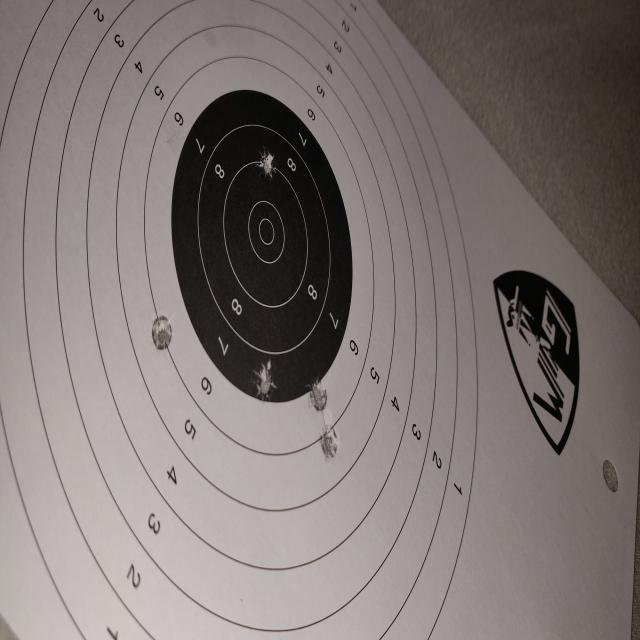6: (152, 314, 172, 352), (319, 423, 338, 460)
7: (254, 359, 276, 402), (308, 374, 328, 412)
9: (256, 146, 276, 180)
Target: (0, 0, 479, 640)
black_contour: (172, 89, 352, 402)
